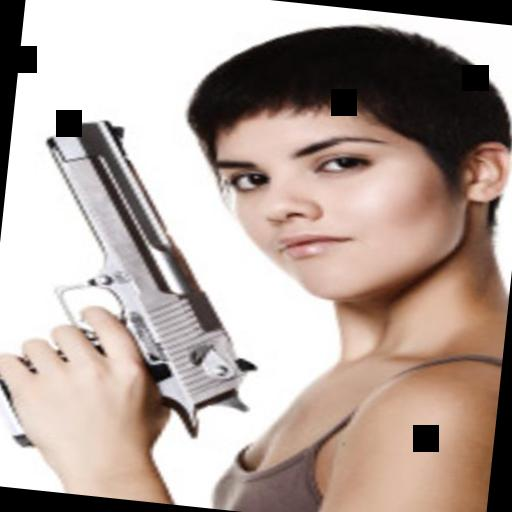Handgun: (0, 103, 287, 472)
